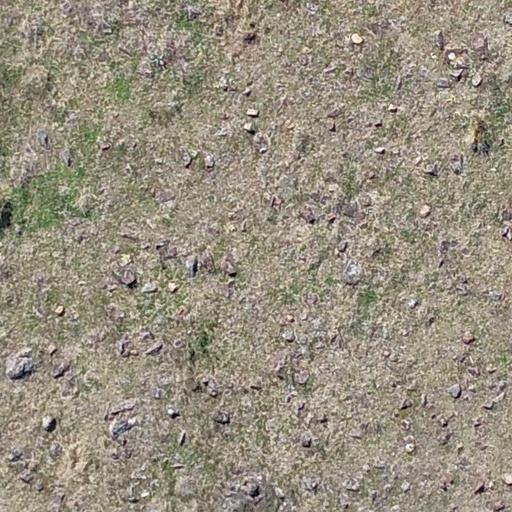stone: (268, 352, 289, 378), (178, 146, 199, 169), (200, 376, 221, 398), (110, 442, 134, 461), (221, 250, 238, 276), (298, 204, 318, 226), (240, 480, 260, 498), (185, 254, 200, 278), (52, 361, 71, 379), (212, 409, 232, 425), (116, 339, 132, 358), (145, 341, 164, 357), (301, 476, 319, 492), (7, 446, 25, 462), (440, 472, 456, 490), (48, 441, 63, 459), (293, 370, 311, 385), (59, 148, 72, 168), (347, 426, 365, 440), (120, 489, 138, 503), (439, 430, 454, 446), (468, 70, 482, 87), (244, 106, 262, 119), (447, 383, 462, 398), (42, 416, 56, 432), (280, 328, 296, 342), (225, 280, 236, 300), (140, 282, 158, 294), (418, 200, 431, 216), (18, 471, 34, 484), (344, 479, 360, 492), (462, 331, 476, 345), (450, 68, 464, 82), (423, 163, 438, 176), (398, 398, 413, 410), (204, 154, 215, 170), (424, 315, 436, 329), (336, 240, 348, 254), (466, 366, 480, 378), (152, 386, 164, 400), (166, 407, 180, 419), (284, 391, 299, 402), (326, 107, 341, 118), (399, 477, 412, 489), (350, 33, 364, 44), (47, 342, 58, 356), (299, 434, 314, 444), (406, 380, 418, 392), (274, 487, 286, 499), (315, 413, 328, 424), (501, 226, 511, 240), (420, 393, 430, 407), (296, 401, 306, 415), (368, 490, 378, 504), (54, 304, 65, 316), (242, 122, 255, 132), (178, 430, 186, 446), (168, 281, 178, 293), (400, 419, 410, 431), (34, 480, 44, 492), (473, 417, 483, 428), (486, 364, 497, 374), (100, 142, 112, 151), (407, 298, 419, 307), (373, 146, 386, 154), (284, 314, 294, 324), (412, 155, 422, 165), (405, 443, 415, 453), (439, 417, 449, 427), (242, 87, 252, 97), (387, 104, 398, 113), (140, 490, 150, 499), (258, 146, 268, 154), (128, 417, 136, 426)
